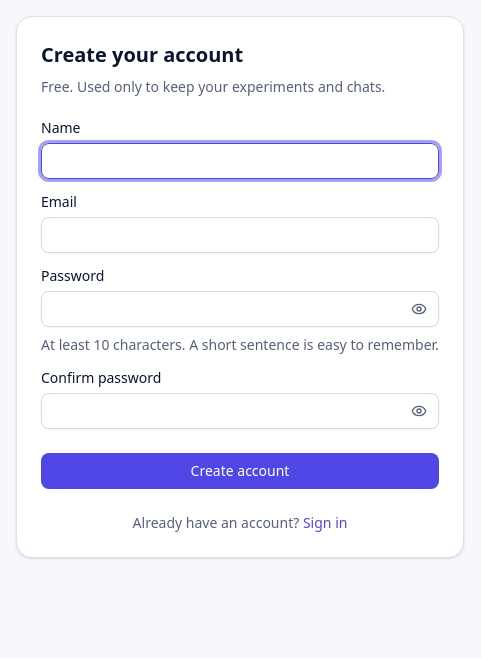
Test: Create account › explains when the server cannot be reached
Type "Asha" into the field labelled "Name" at (240, 161), box left=41, top=143, right=439, bottom=179
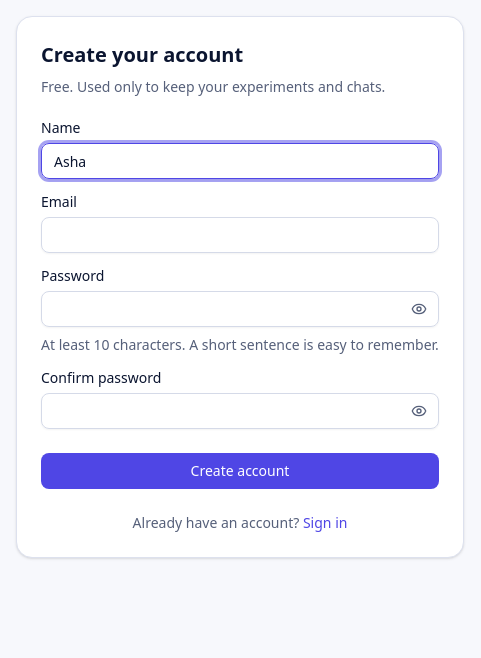
Type "asha@example.com" into the field labelled "Email" at (240, 235), box left=41, top=217, right=439, bottom=253
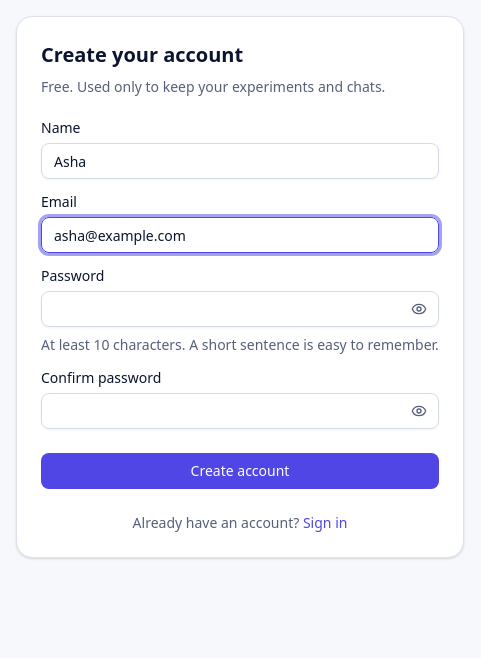
Type "correct horse" into the password field labelled "Password" at (240, 309), box left=41, top=291, right=439, bottom=327
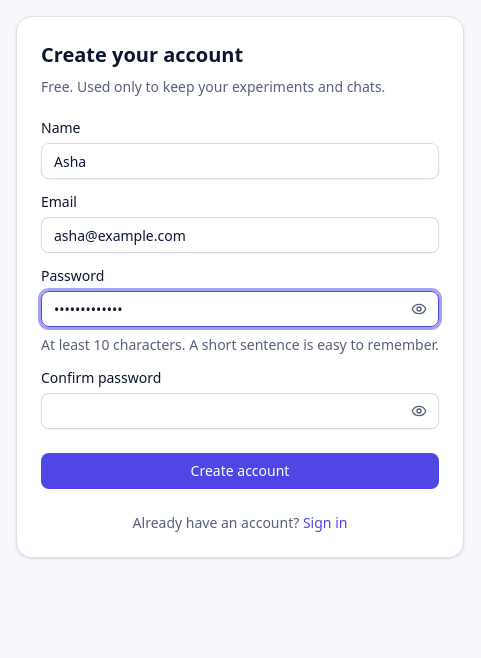
Type "correct horse" into the password field labelled "Confirm password" at (240, 411), box left=41, top=393, right=439, bottom=429
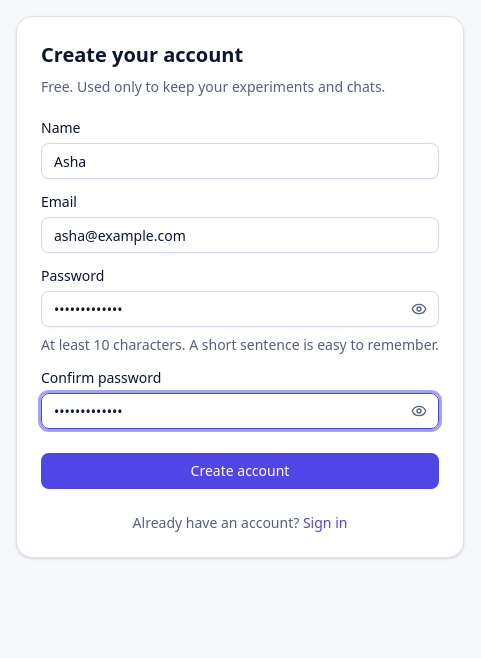
Click the button "Create account" at (240, 471), box left=41, top=453, right=439, bottom=489
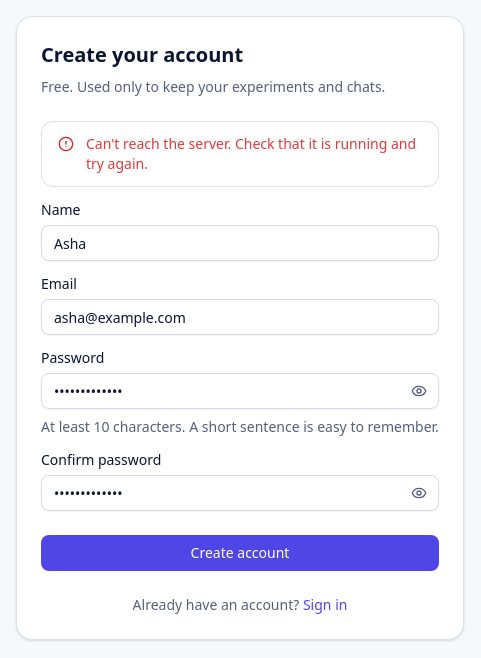
Expected: the message shows "Can't reach the server", left=86, top=134, right=416, bottom=173
